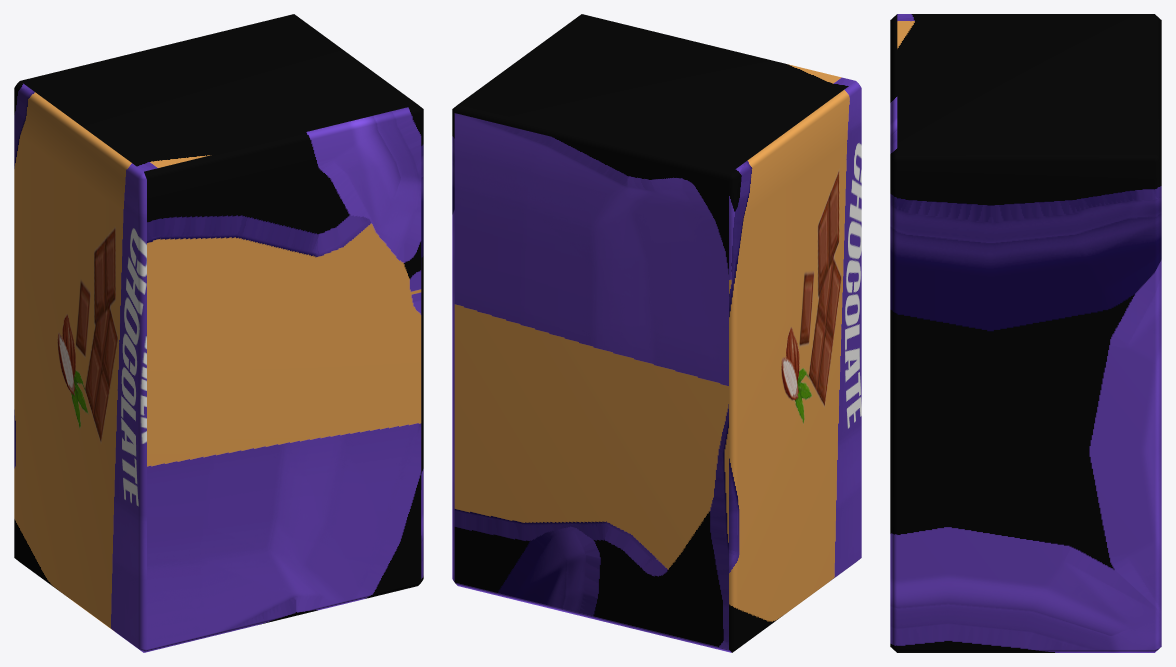
The model's file is hop banh quy.fbx.
3 views of the same model, side by side, from view 1: azimuth 30°, elevation 25°; view 2: azimuth 150°, elevation 25°; view 3: azimuth 270°, elevation 25° (orthographic). The views are drawn at different scales.
Parts seen in each view (by area): view 1: hop_banh_quy; view 2: hop_banh_quy; view 3: hop_banh_quy.
Boxes of the visible parts, left/top/right/bottom form: hop_banh_quy: left=14, top=14, right=423, bottom=652; hop_banh_quy: left=452, top=14, right=861, bottom=652; hop_banh_quy: left=890, top=14, right=1161, bottom=652.
Size of the model in its own units: 69.39 by 112 by 54.89.
